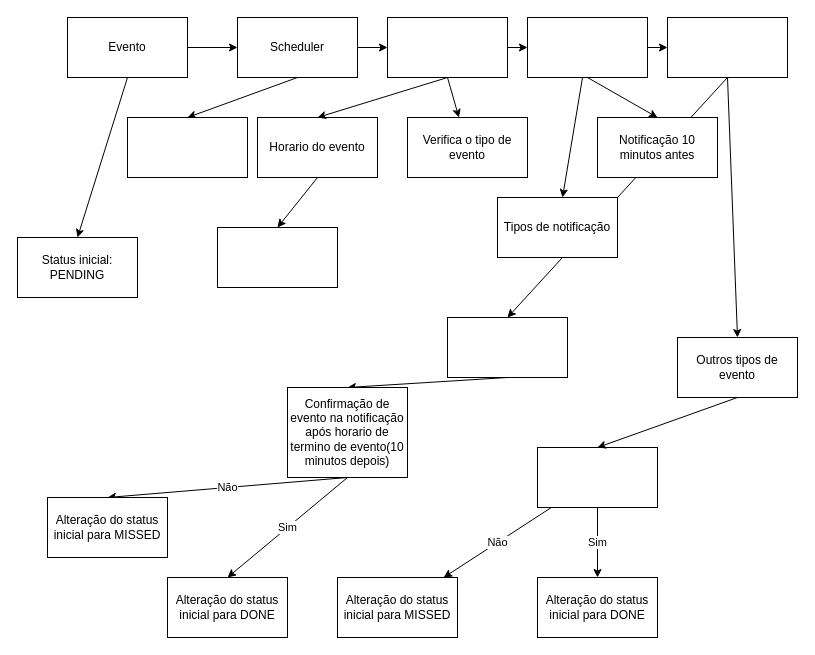
This 815x655 diagram has some shape labels left out. The shapes that lost their labels are listed below. From the top down, each one's centre as x and y in pixels, then its label:
At point (447, 47): "UseCase".
At point (587, 47): "Notificação".
At point (727, 47): "Usuário".
At point (187, 147): "Verifica o horario do evento".
At point (277, 257): "Alteração do status inicial para ACTIVE".
At point (507, 347): "Evento Urgente".
At point (597, 477): "Confirmação de evento na ultima notificação".
